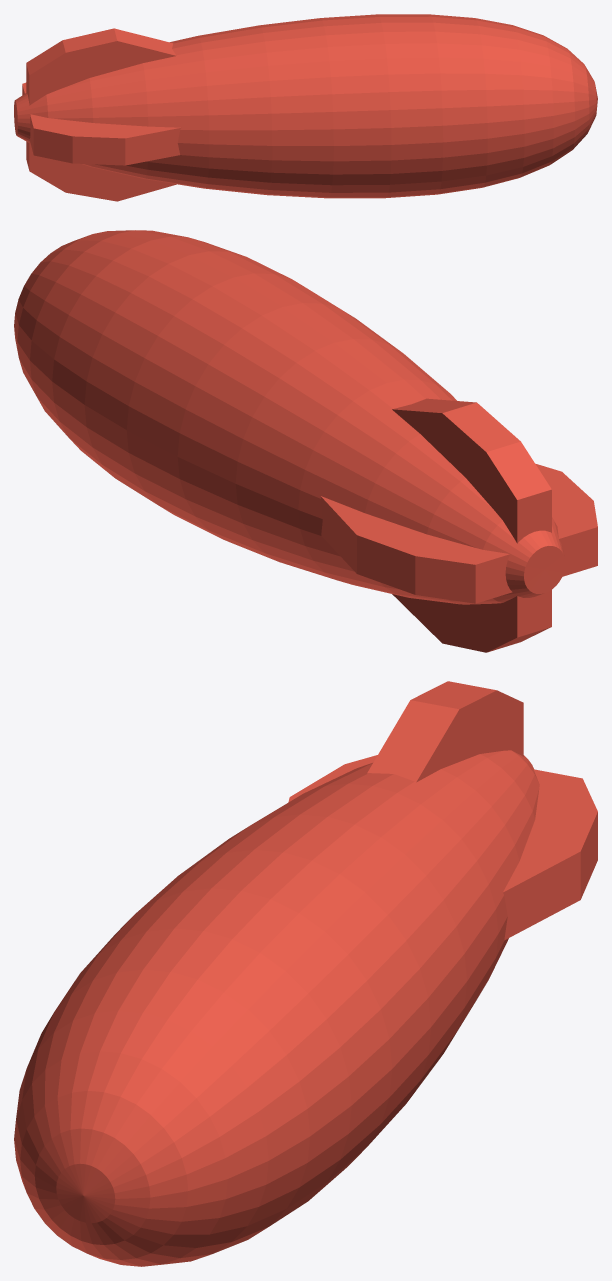
File: Blimp.fbx
3 views of the same model, one above another, from view 1: azimuth 30°, elevation 25°; view 2: azimuth 150°, elevation 25°; view 3: azimuth 270°, elevation 25° (orthographic). The views are drawn at different scales.
Parts seen in each view (by area): view 1: Blimp; view 2: Blimp; view 3: Blimp.
Boxes of the visible parts, bbox=[...] form: Blimp: bbox=[14, 14, 597, 201]; Blimp: bbox=[14, 230, 597, 652]; Blimp: bbox=[14, 681, 597, 1266].
Bounding box in the file's own units: 8344 × 2793 × 4925.
